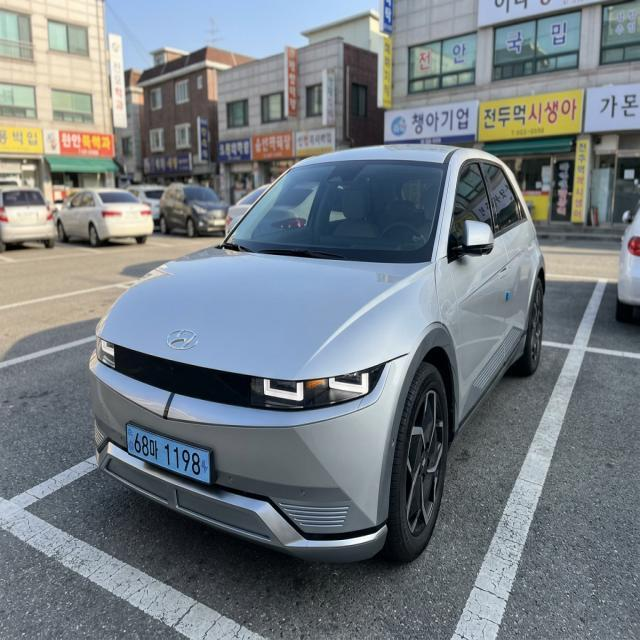car: (117, 413, 228, 496)
carev: (201, 439, 215, 489), (121, 421, 135, 463)
